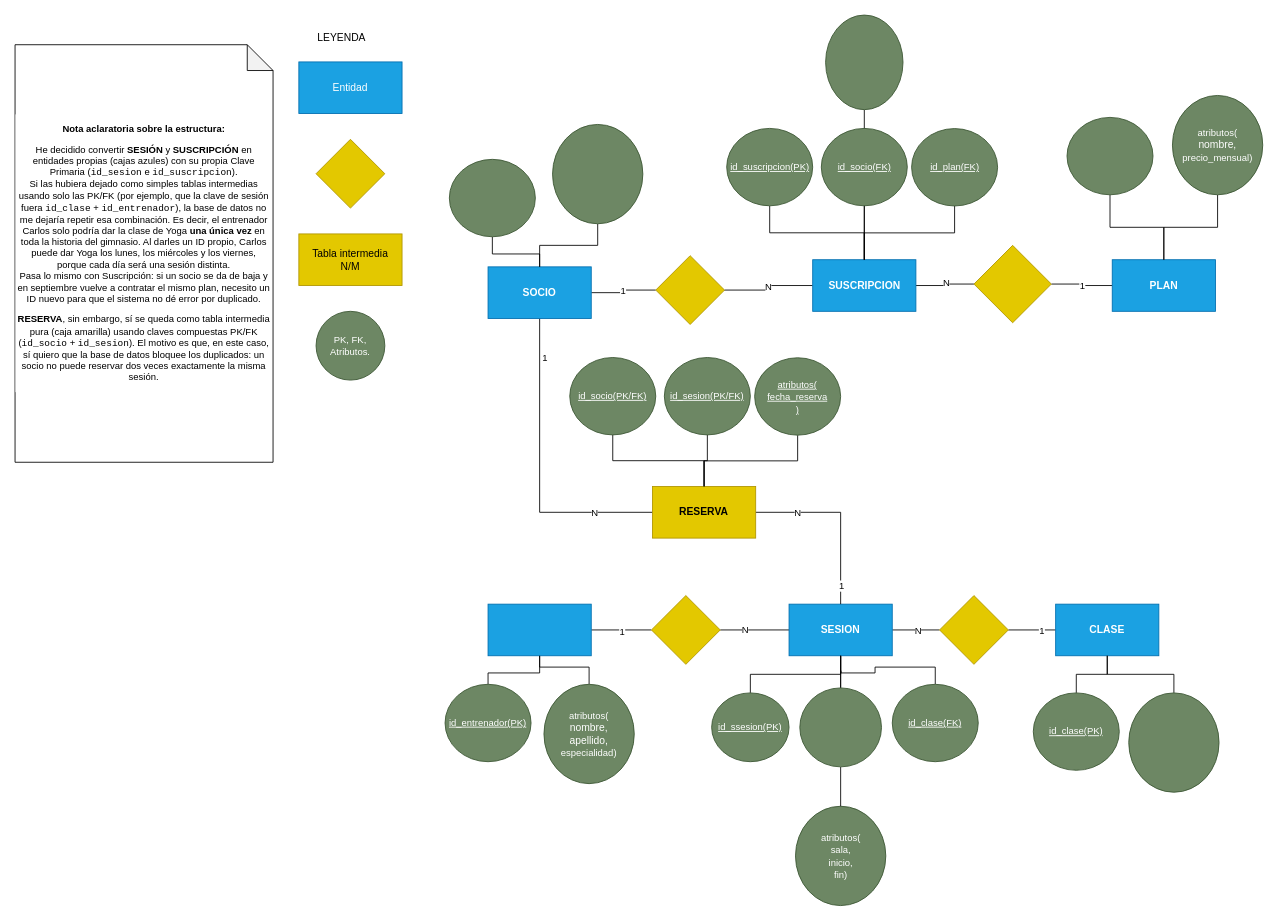
The diagram is 1278 pixels wide and 921 high, and some of its shapes have lost their labels. The centre of each missing label's shape, as x and y in pixels:
atributos( fecha_inicio, fecha_fin, estado): point 864,62
atributos( nombre, aforo_max): point 1173,742
atributos( nombre, apellido, email, telefono, fecha_alta): point 597,174
CONTRATA: point 690,289
ENTRENADOR: point 539,629
id_entrenador(FK): point 840,727
id_plan(PK): point 1109,156
id_socio(PK): point 491,197
IMPARTE: point 685,629
PERTENECE: point 1012,283
PROGRAMA: point 973,629
Relacion: point 350,173
